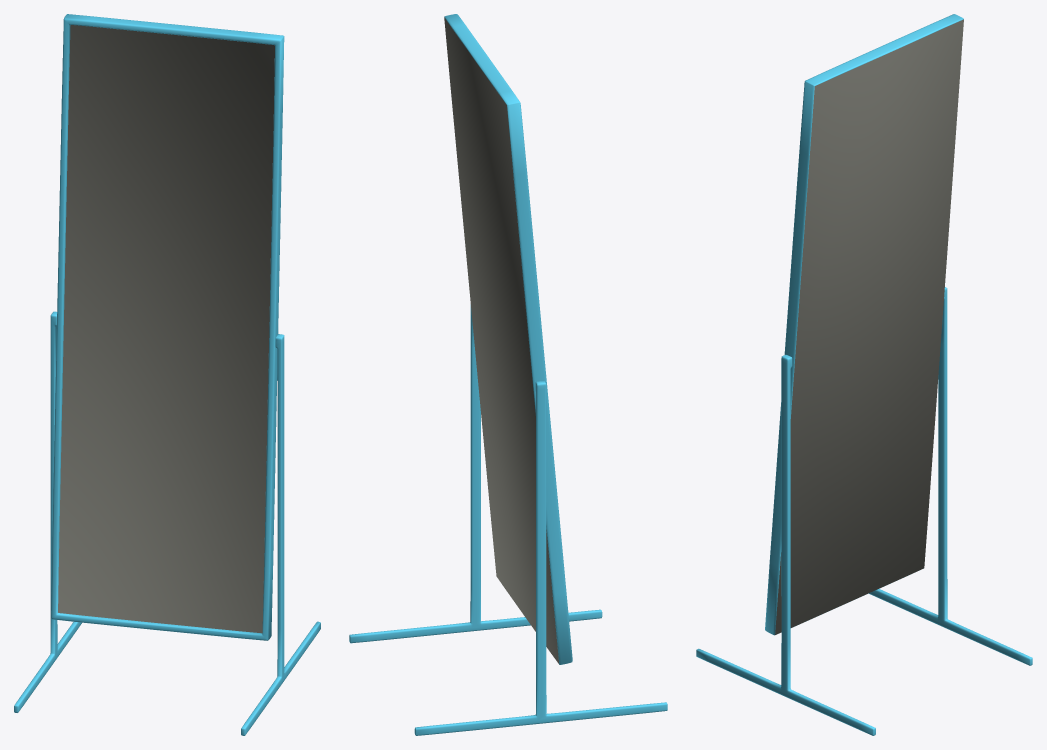
File: s_ayna.obj
The picture shows the model from 3 angles, left to right: view 1: azimuth 30°, elevation 25°; view 2: azimuth 150°, elevation 25°; view 3: azimuth 270°, elevation 25°; orthographic projection. The views are drawn at different scales.
Parts seen in each view (by area): view 1: Box009.008_m_ayna, Box009.008_m_blue; view 2: Box009.008_m_ayna, Box009.008_m_blue; view 3: Box009.008_m_ayna, Box009.008_m_blue.
Boxes of the visible parts, left/top/right/bottom form: Box009.008_m_ayna: left=58, top=25, right=274, bottom=633; Box009.008_m_blue: left=14, top=14, right=320, bottom=735; Box009.008_m_ayna: left=444, top=17, right=559, bottom=664; Box009.008_m_blue: left=349, top=14, right=667, bottom=735; Box009.008_m_ayna: left=775, top=19, right=963, bottom=634; Box009.008_m_blue: left=696, top=14, right=1032, bottom=735.
Bounding box in the file's own units: 12.02 × 23.09 × 11.35.
